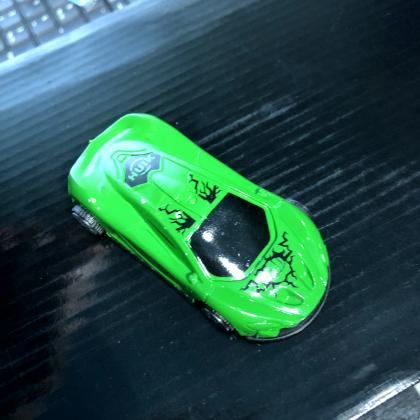Car: (65, 109, 341, 348)
